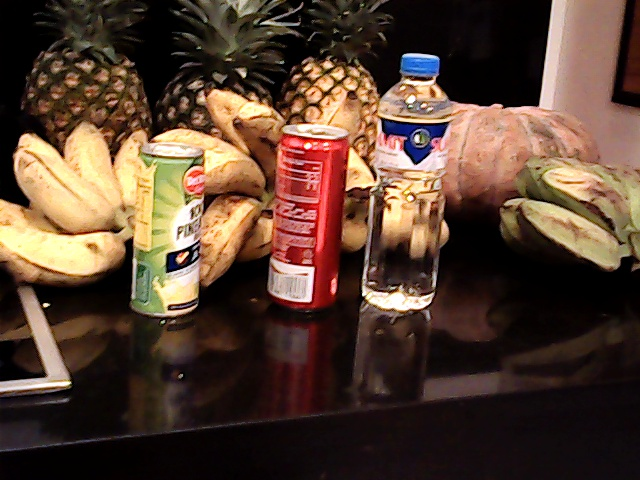Cola: (267, 122, 346, 302)
Pine Juice: (130, 139, 210, 326)
Summit Water: (370, 51, 444, 307)
